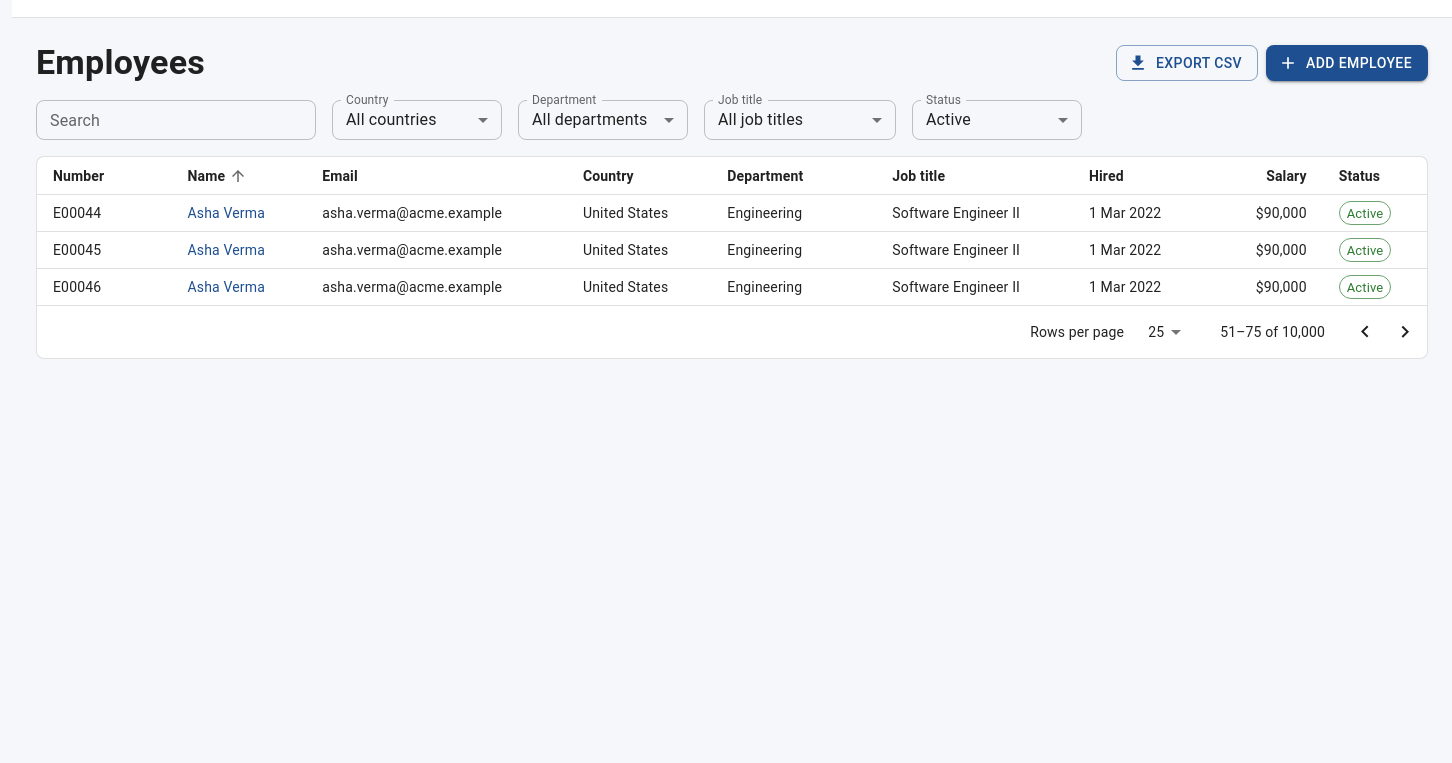
Test: the employee directory › filtering and searching › filters by country, department and job title, each returning to the first page
Select "India" in the dropdown labelled "Country" at [417, 120], box [332,100,502,140]
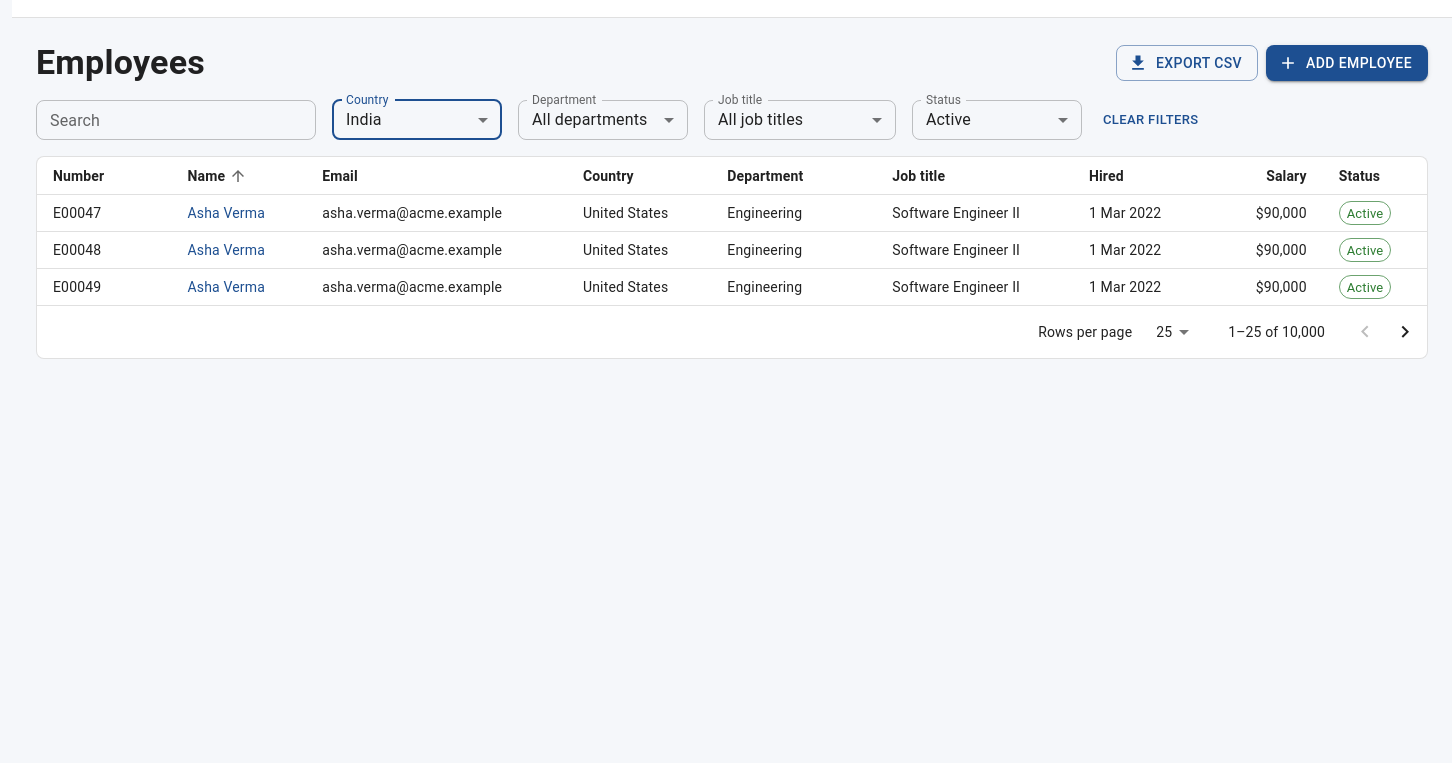
Select "Sales" in the dropdown labelled "Department" at [603, 120], box [518,100,688,140]
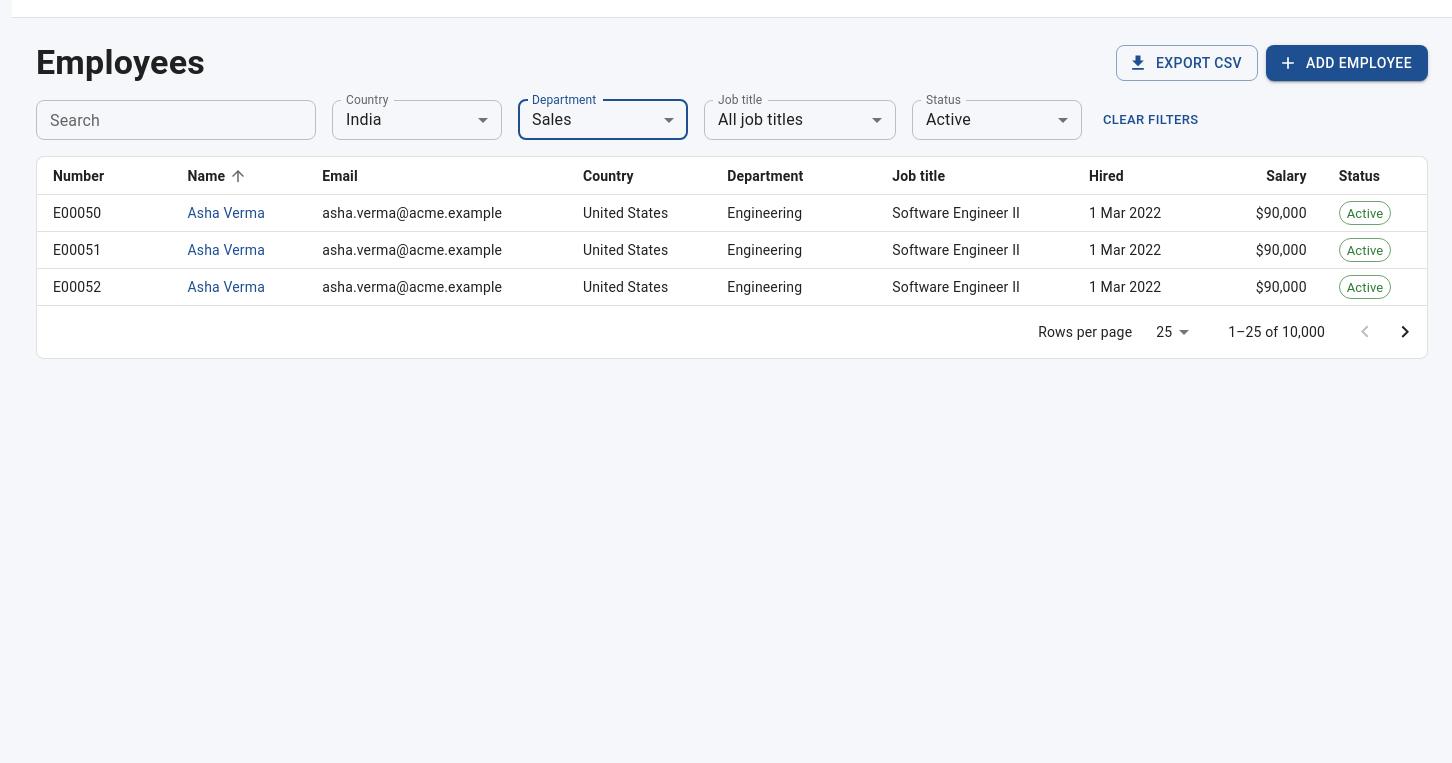
Select "Account Executive" in the dropdown labelled "Job title" at [800, 120], box [704,100,896,140]
(page scrolled)
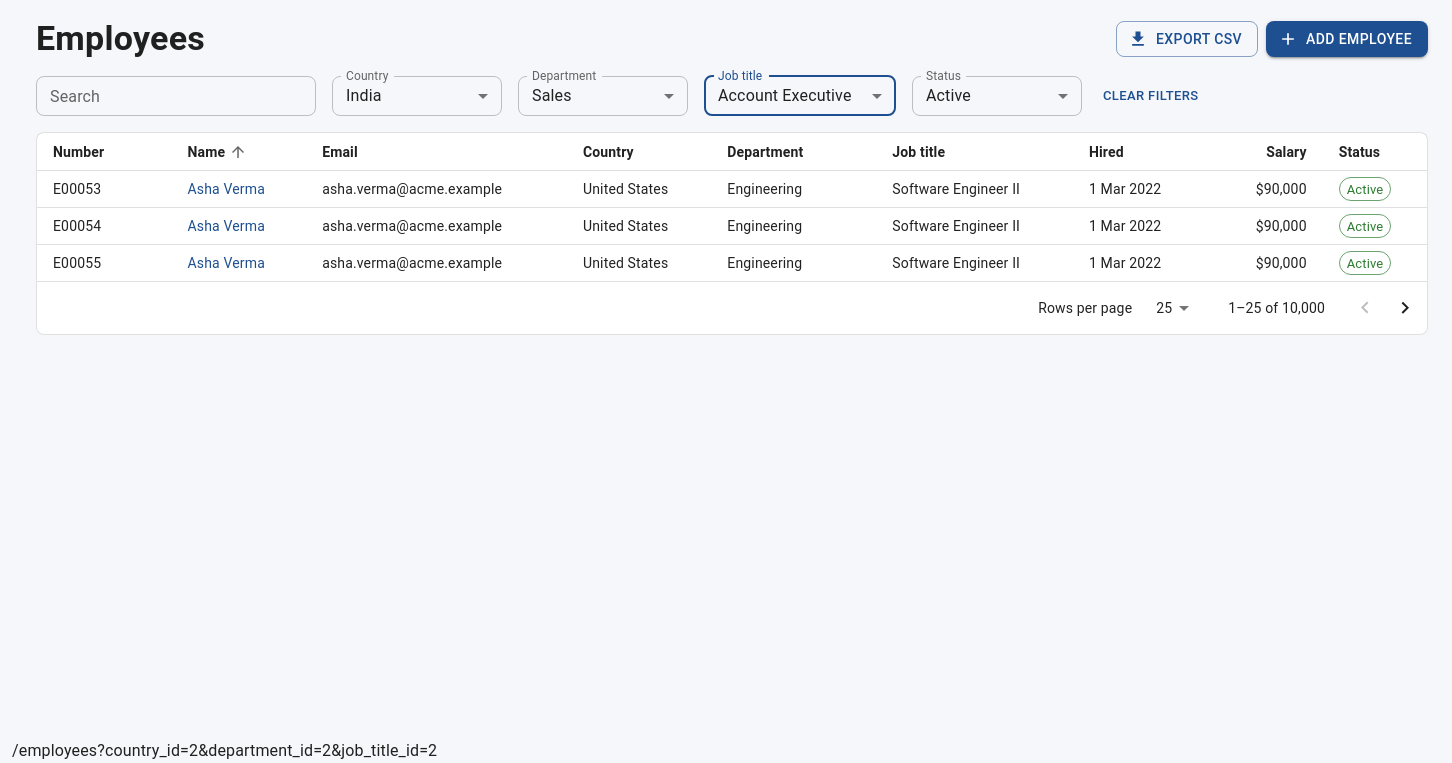
Expected: the text with test id "location" reads "/employees?country_id=2&department_id=2&job_title_id=2", [12,741,437,760]
